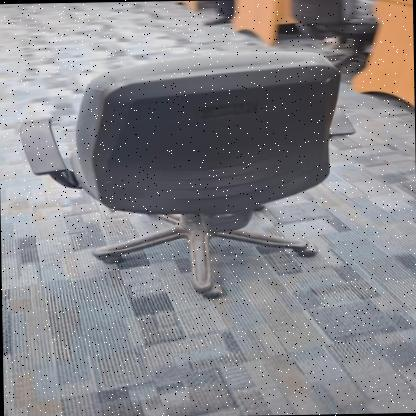chair: (11, 36, 359, 304)
